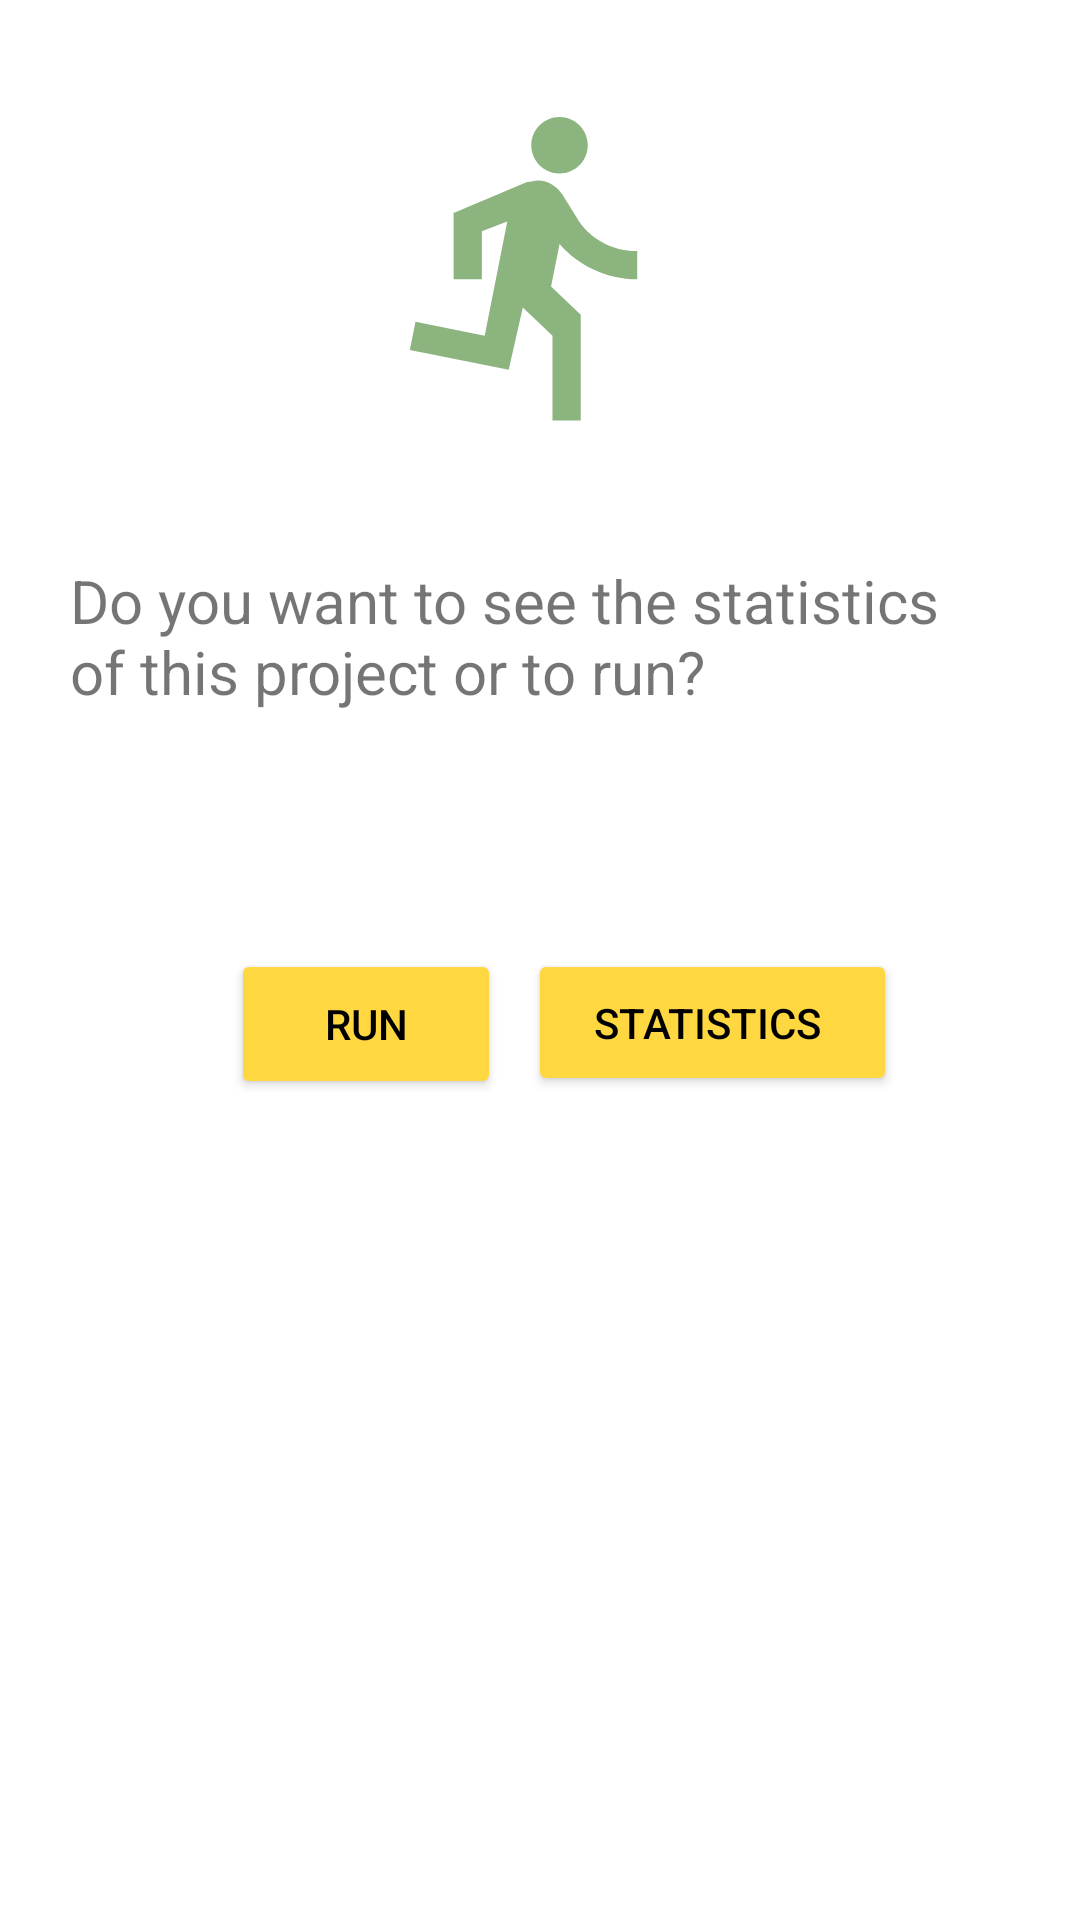

Icons on this 1080×1920 Android screen, each with the point to tap as (x,y):
directions run: (524,269)
